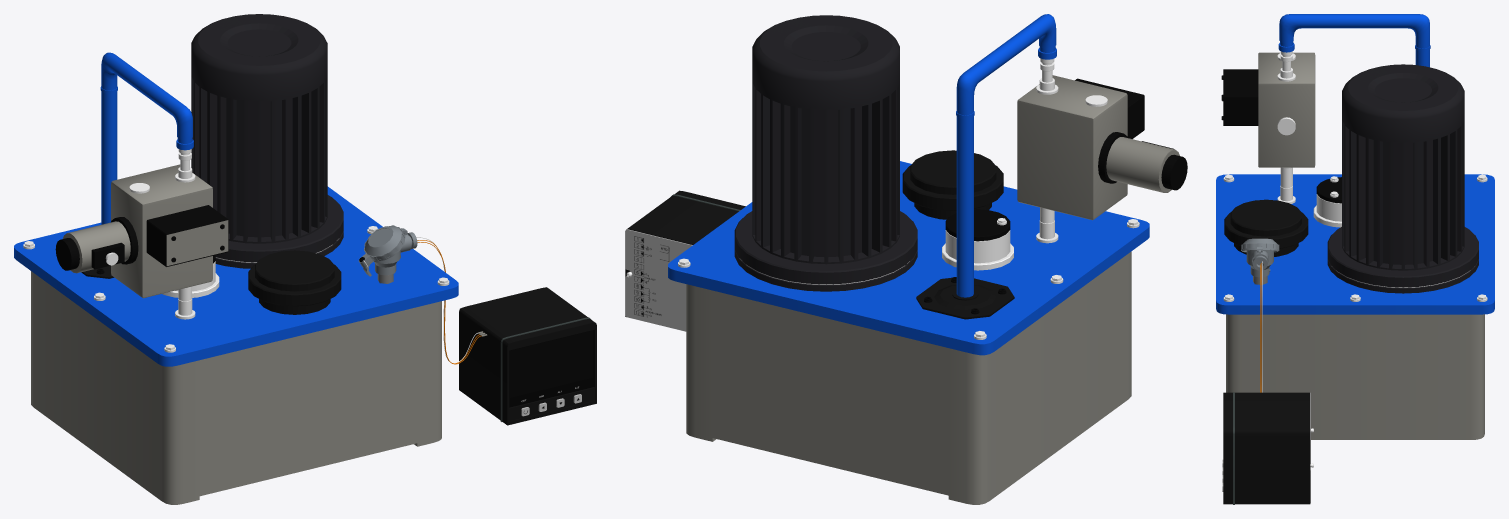
The picture shows the model from 3 angles, left to right: view 1: azimuth 30°, elevation 25°; view 2: azimuth 150°, elevation 25°; view 3: azimuth 270°, elevation 25°; orthographic projection. The views are drawn at different scales.
Parts seen in each view (by area): view 1: Box032, Cylinder116, 온도센서, Box036, Box033, Indicator, Cylinder118, Line018, Box034, Cylinder134, Cover; view 2: Box032, Cylinder116, 온도센서, Box033, Line018, Rectangle005, Cylinder118, Box036, Cylinder134, Cylinder119, Box034; view 3: Box032, Cylinder116, 온도센서, Box036, Box033, Cylinder118, Line018, Box034, Cylinder119, Cylinder131, Cylinder066, Cover.
Part boxes in pixels (x1=…): Box032: x1=31, y1=271, x2=441, y2=504; Cylinder116: x1=191, y1=14, x2=343, y2=268; 온도센서: x1=14, y1=186, x2=458, y2=366; Box036: x1=459, y1=287, x2=596, y2=425; Box033: x1=111, y1=164, x2=212, y2=298; Indicator: x1=500, y1=317, x2=594, y2=421; Cylinder118: x1=248, y1=250, x2=341, y2=314; Line018: x1=100, y1=52, x2=193, y2=224; Box034: x1=146, y1=205, x2=228, y2=266; Cylinder134: x1=63, y1=221, x2=130, y2=273; Cover: x1=358, y1=225, x2=407, y2=266; Box032: x1=686, y1=251, x2=1131, y2=504; Cylinder116: x1=734, y1=15, x2=917, y2=291; 온도센서: x1=668, y1=132, x2=1187, y2=355; Box033: x1=1017, y1=75, x2=1127, y2=220; Line018: x1=956, y1=14, x2=1056, y2=297; Rectangle005: x1=625, y1=229, x2=692, y2=331; Cylinder118: x1=902, y1=150, x2=1003, y2=219; Box036: x1=625, y1=190, x2=745, y2=316; Cylinder134: x1=1106, y1=137, x2=1179, y2=192; Cylinder119: x1=942, y1=230, x2=1013, y2=270; Box034: x1=1075, y1=78, x2=1144, y2=138; Box032: x1=1226, y1=314, x2=1484, y2=439; Cylinder116: x1=1327, y1=64, x2=1478, y2=293; 온도센서: x1=1216, y1=174, x2=1494, y2=314; Box036: x1=1223, y1=392, x2=1310, y2=504; Box033: x1=1258, y1=52, x2=1315, y2=167; Cylinder118: x1=1224, y1=199, x2=1308, y2=256; Line018: x1=1278, y1=14, x2=1430, y2=67; Box034: x1=1223, y1=69, x2=1258, y2=125; Cylinder119: x1=1313, y1=194, x2=1341, y2=227; Cylinder131: x1=1277, y1=167, x2=1295, y2=203; Cylinder066: x1=1246, y1=250, x2=1273, y2=277; Cover: x1=1241, y1=238, x2=1279, y2=252.
Bounding box in the file's own units: 89.83 × 62.44 × 48.48.
